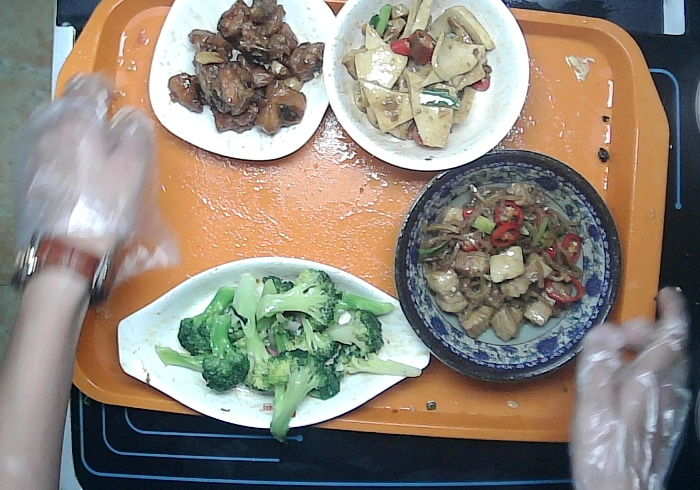ZNLD-Qing_Hua_Wan: (384, 145, 621, 381)
ZNLD-Si_Fang_Wan: (150, 1, 340, 160)
ZNLD-Tang_Wan: (320, 1, 533, 174)
ZNLD-Yu_Pan: (108, 257, 437, 432)
